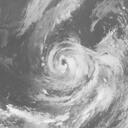cyclone: (48, 41, 88, 83)
